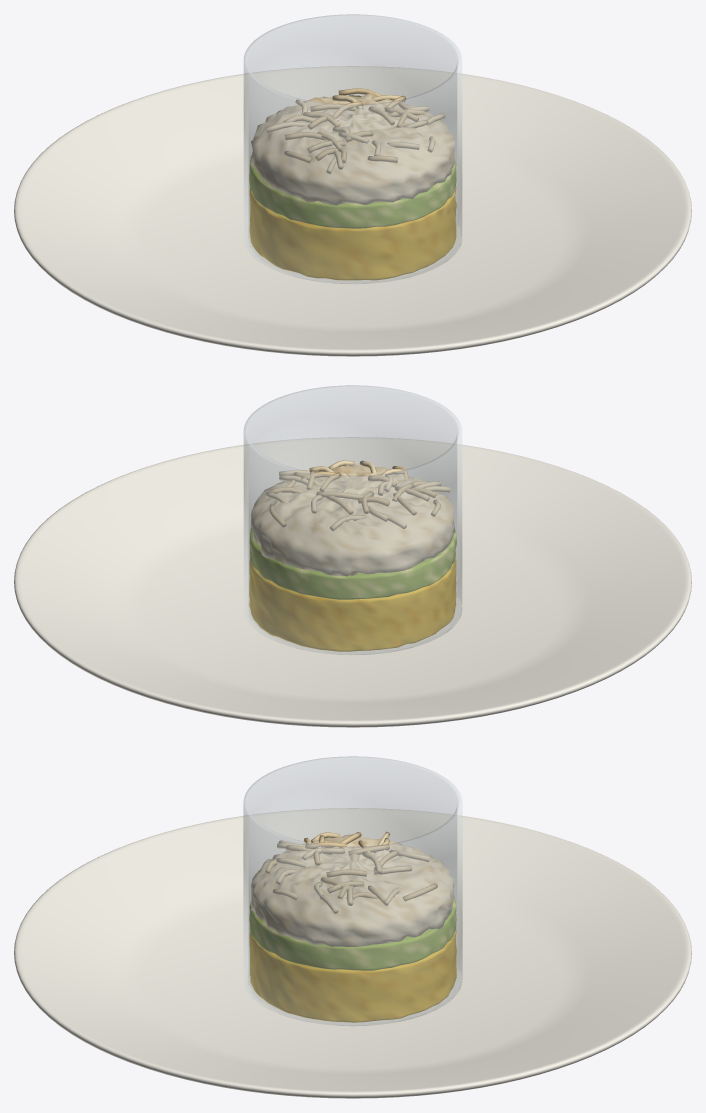
Rendered from paso-4.glb.
The picture shows the model from 3 angles, top to bottom: view 1: azimuth 30°, elevation 25°; view 2: azimuth 150°, elevation 25°; view 3: azimuth 270°, elevation 25°; orthographic projection.
Parts seen in each view (by area): view 1: paso-4-0, paso-4-38, paso-4-3, paso-4-1, paso-4-2; view 2: paso-4-0, paso-4-38, paso-4-3, paso-4-1, paso-4-2; view 3: paso-4-0, paso-4-38, paso-4-3, paso-4-1, paso-4-2.
Part boxes in pixels (x1,y1,x2,y2): paso-4-0: (14, 66, 691, 356); paso-4-38: (244, 14, 461, 283); paso-4-3: (251, 93, 454, 205); paso-4-1: (249, 186, 456, 280); paso-4-2: (249, 156, 456, 228); paso-4-0: (14, 437, 691, 727); paso-4-38: (244, 385, 461, 654); paso-4-3: (251, 464, 455, 576); paso-4-1: (249, 555, 456, 651); paso-4-2: (249, 527, 456, 599); paso-4-0: (14, 808, 691, 1098); paso-4-38: (243, 756, 462, 1025); paso-4-3: (251, 834, 454, 946); paso-4-1: (249, 927, 456, 1022); paso-4-2: (249, 899, 456, 970).
Bounding box in the file's own units: 0.26 × 0.081 × 0.26.
